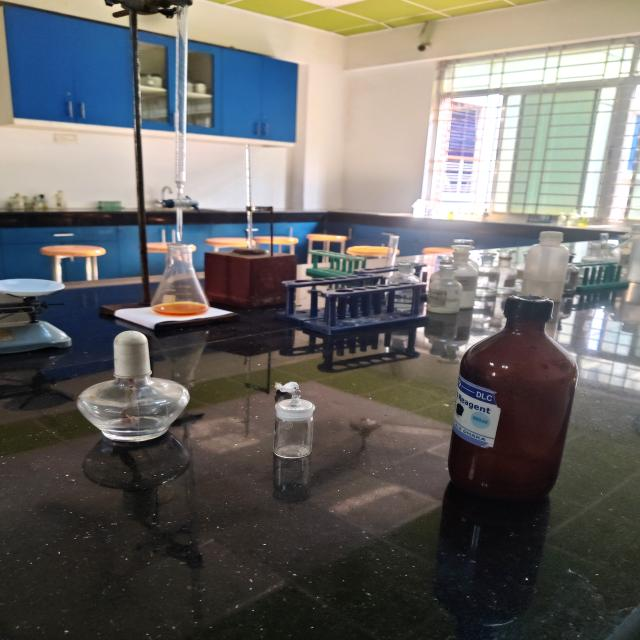Nessler_Reagent_Bottle: (431, 282, 593, 528)
Spirit_Lamp: (38, 320, 198, 464)
Weighing_Bottle: (256, 371, 339, 475)
